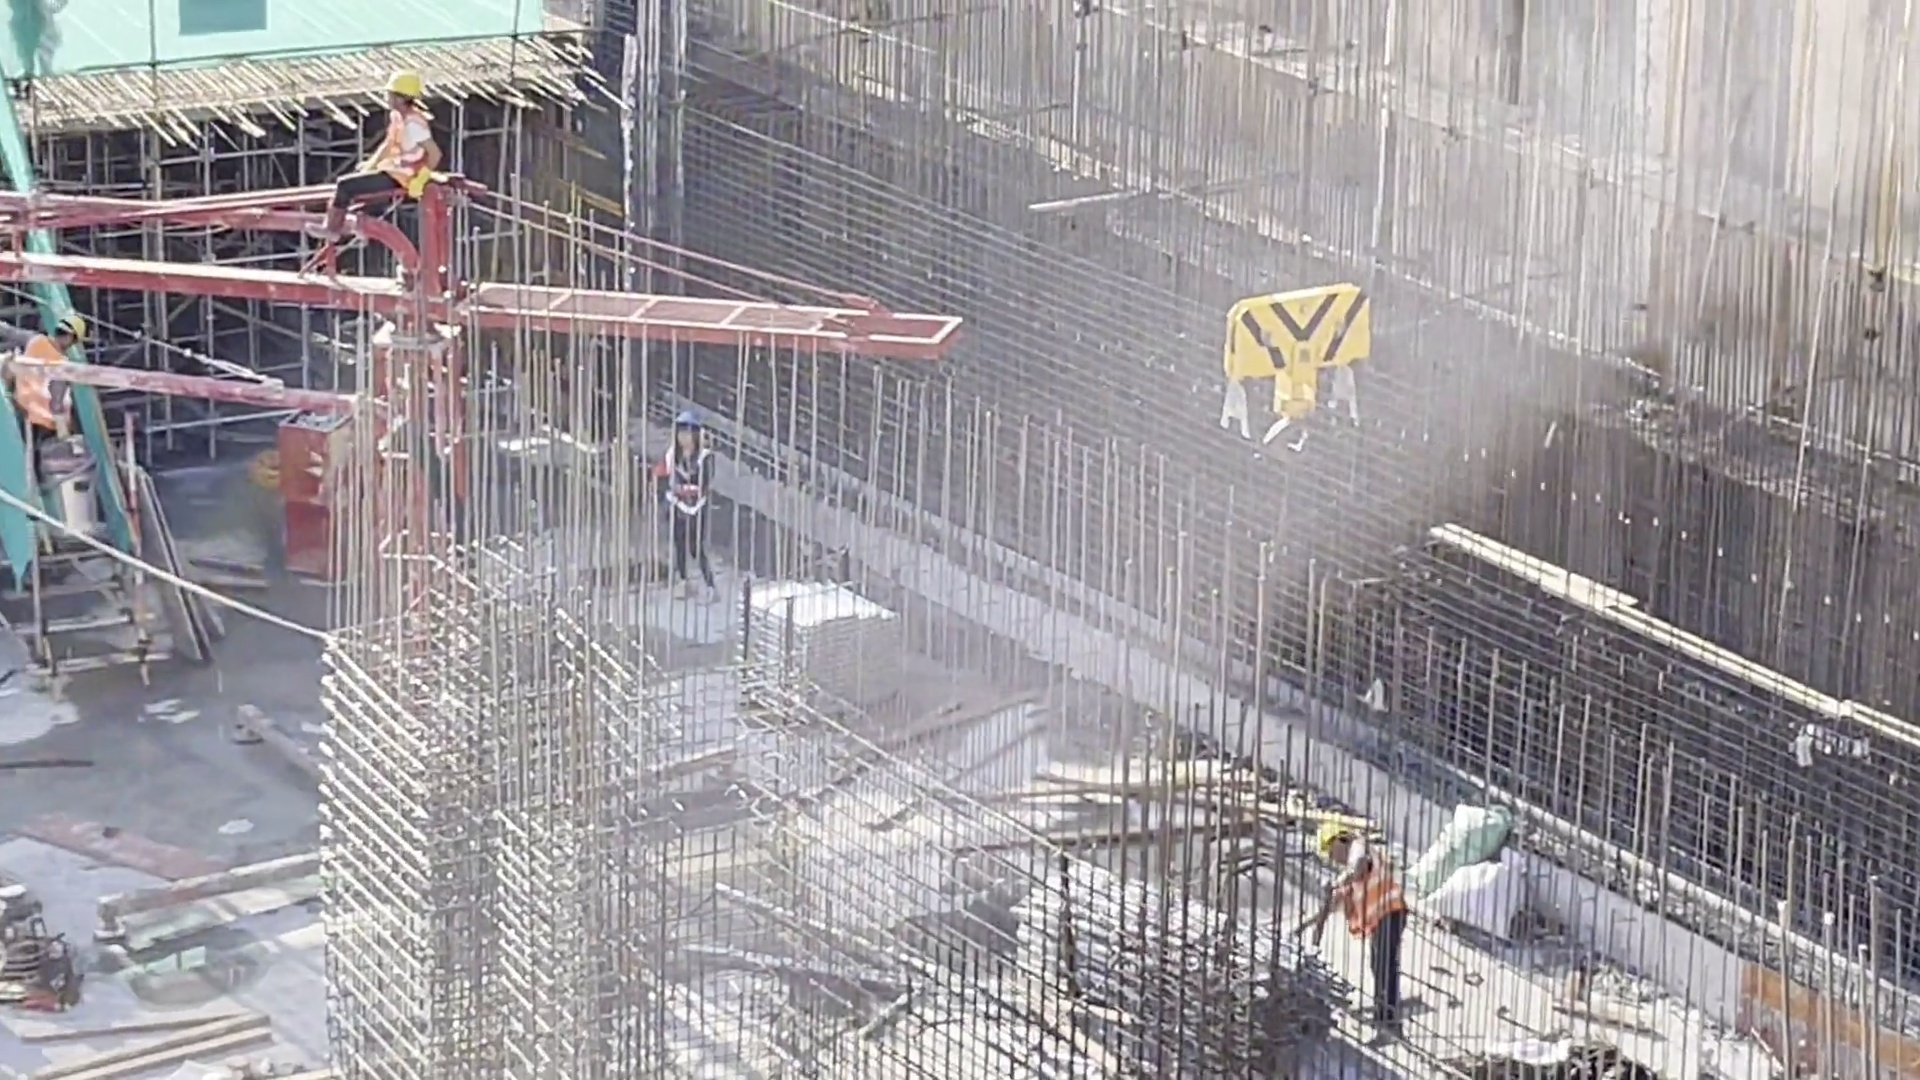helmet: (378, 72, 447, 123), (59, 304, 107, 354), (664, 404, 707, 445), (1318, 816, 1358, 858)
person: (326, 67, 471, 270), (1304, 811, 1430, 1028), (648, 417, 741, 601), (18, 312, 99, 456)
vest: (357, 107, 438, 199), (14, 334, 86, 435), (1324, 845, 1409, 929), (656, 441, 712, 518)
